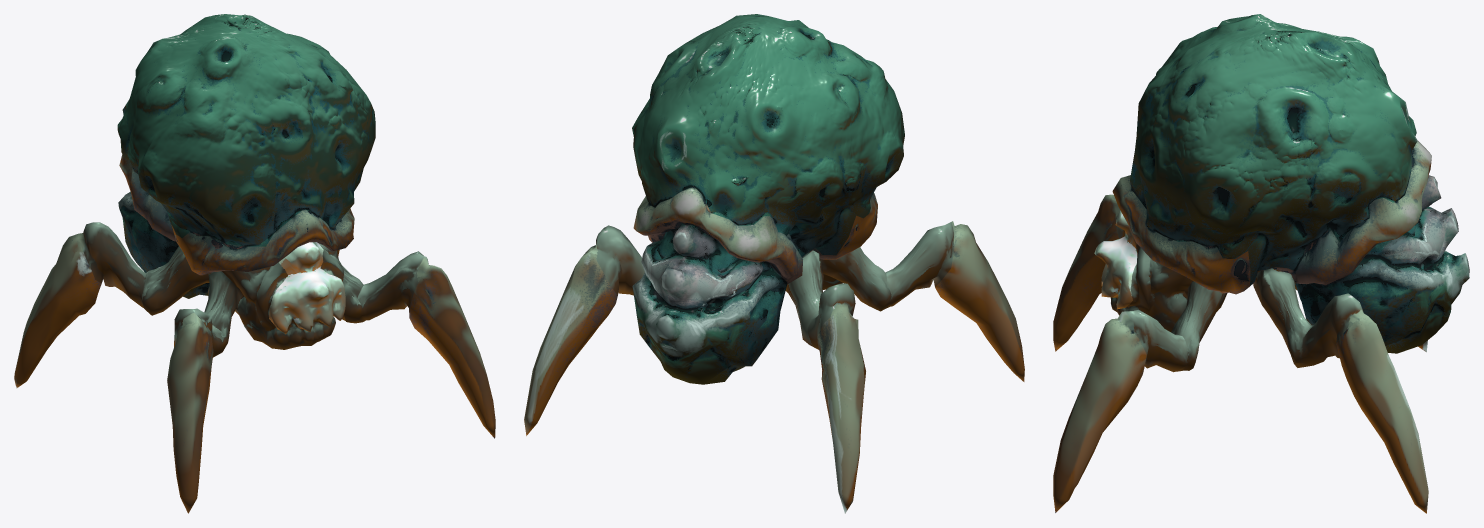
The model's file is MonsterB.fbx.
3 views of the same model, side by side, from view 1: azimuth 30°, elevation 25°; view 2: azimuth 150°, elevation 25°; view 3: azimuth 270°, elevation 25° (orthographic). The views are drawn at different scales.
Parts seen in each view (by area): view 1: EnemyS_4_low.002; view 2: EnemyS_4_low.002; view 3: EnemyS_4_low.002.
Boxes of the visible parts, x1,y1,x2,y2 form: EnemyS_4_low.002: (14,14,495,513); EnemyS_4_low.002: (524,14,1024,513); EnemyS_4_low.002: (1053,14,1469,513).
Size of the model in its own units: 76.04 by 80.56 by 86.85.
